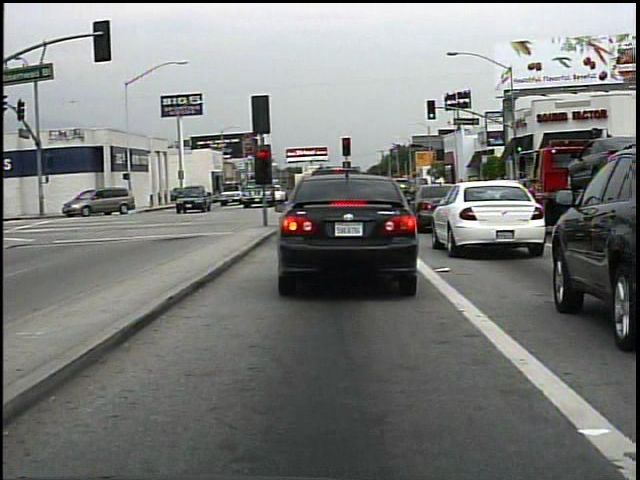car: (273, 156, 425, 303), (444, 175, 537, 261)
